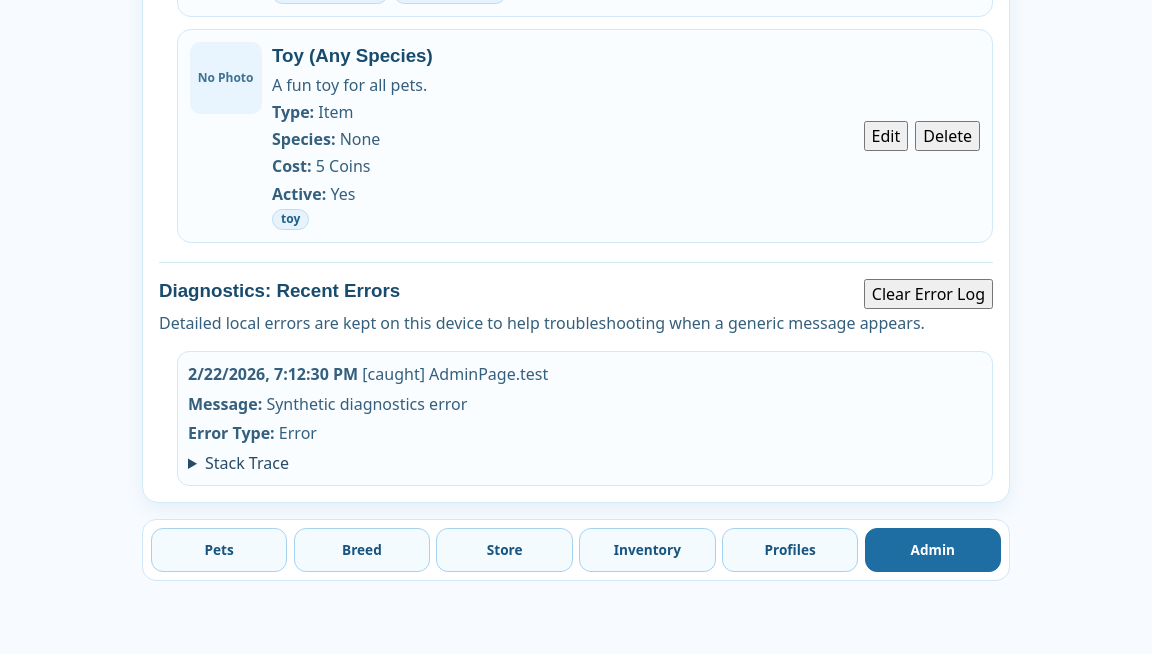
Test: Admin page › shows and clears diagnostics error history
(page scrolled)
Expected: the heading "Diagnostics: Recent Errors" is shown, [159,277,400,305]
Expected: the text "Synthetic diagnostics error" is shown, [266,393,467,415]
What coordinates should you click on to do the following:
click the button "Clear Error Log"
I would click on:
 (928, 294)
Its box is [864,279,993,309].
(page scrolled)
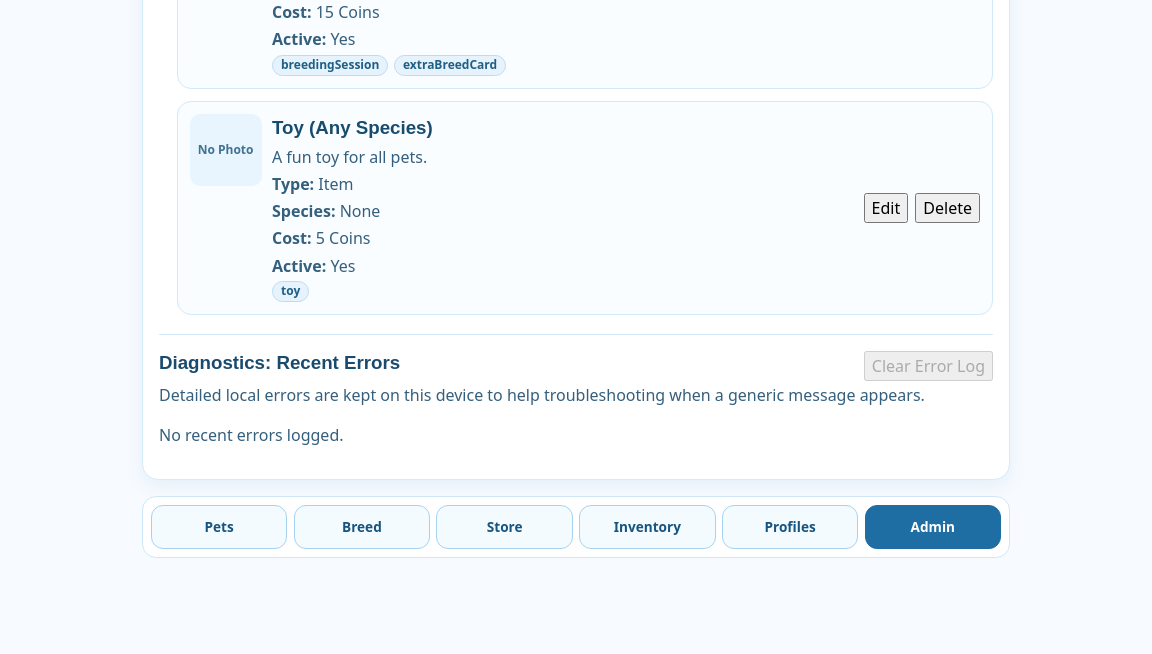
Expected: the text "No recent errors logged." is shown, [159,424,344,446]
